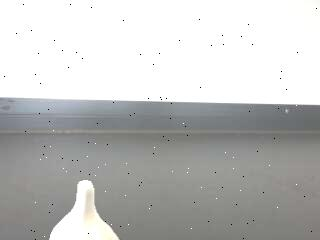Garlic: (46, 172, 124, 240)
